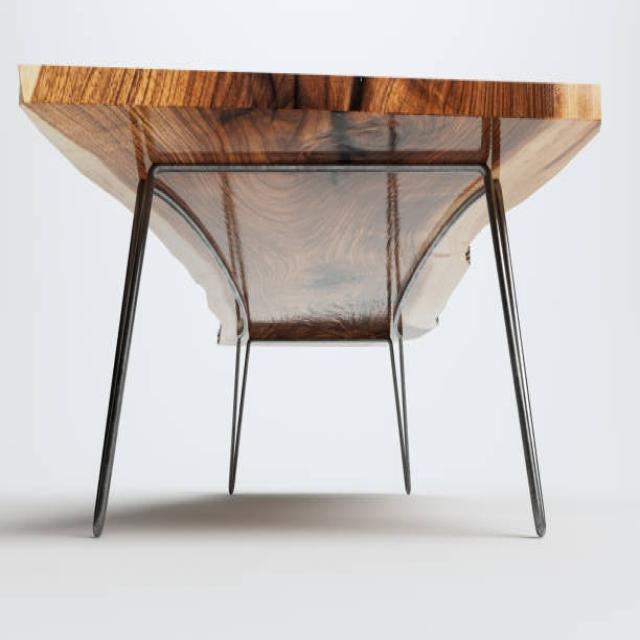table: (16, 63, 602, 540)
